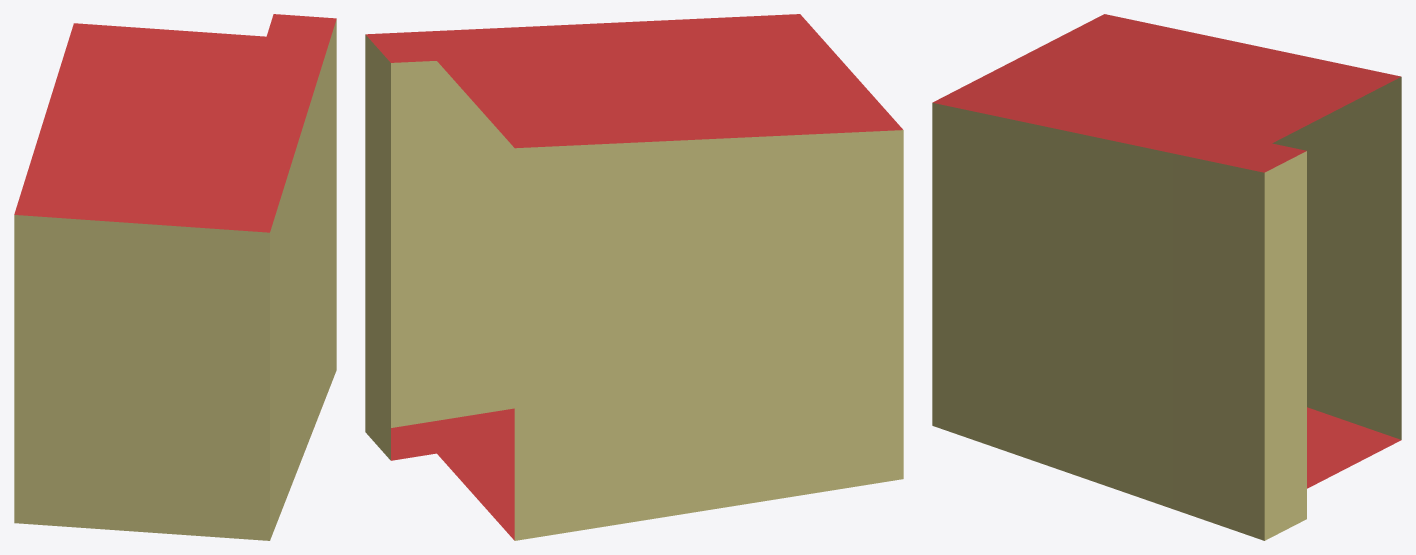
3 views of the same model, side by side, from view 1: azimuth 30°, elevation 25°; view 2: azimuth 150°, elevation 25°; view 3: azimuth 270°, elevation 25° (orthographic). The views are drawn at different scales.
Visible parts, largest first — view 1: group_4, group_3; view 2: group_4, group_3, group_5; view 3: group_4, group_3, group_5.
Boxes of the visible parts, x1,y1,x2,y2 form: group_4: [14, 19, 336, 540]; group_3: [14, 14, 336, 232]; group_4: [365, 34, 903, 540]; group_3: [366, 14, 902, 148]; group_5: [391, 408, 514, 540]; group_4: [932, 77, 1401, 540]; group_3: [932, 14, 1400, 172]; group_5: [1307, 407, 1401, 488].
Bounding box in the file's own units: 8.98 × 8.73 × 7.56.
